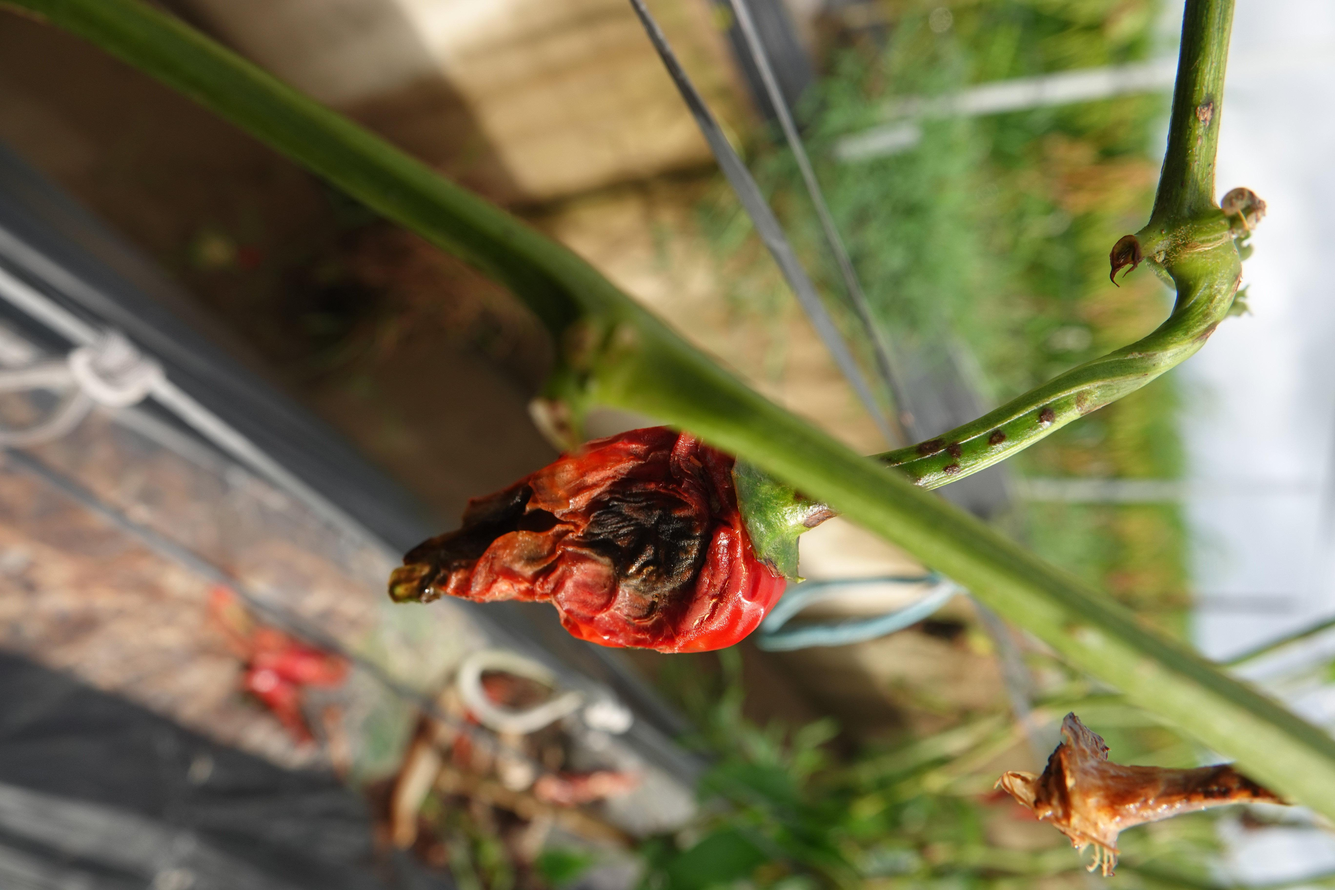Busuk Buah Antraknosa: (386, 422, 791, 657)
